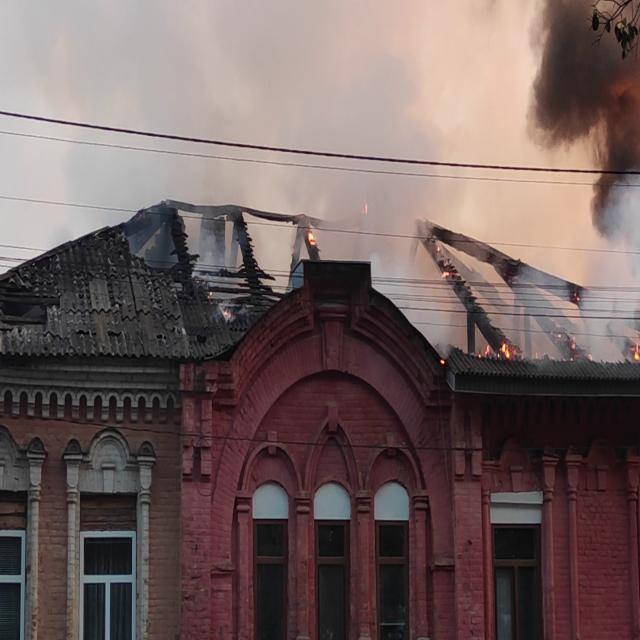fire: (501, 315, 542, 361)
smoke: (528, 0, 640, 200), (352, 118, 417, 222)
